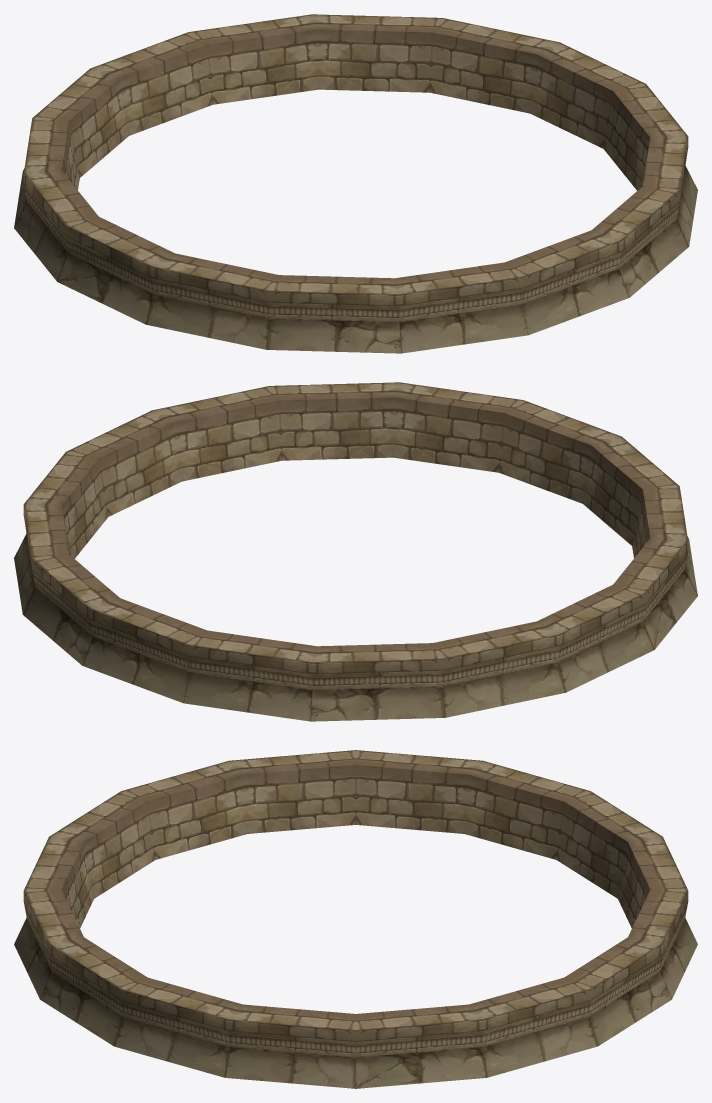
3 renders of one model, top to bottom at view 1: azimuth 30°, elevation 25°; view 2: azimuth 150°, elevation 25°; view 3: azimuth 270°, elevation 25°, orthographic.
Visible parts, largest first — view 1: Tube; view 2: Tube; view 3: Tube.
Boxes of the visible parts, box(x1,y1,x2,y2) form: Tube: box(14, 14, 697, 353); Tube: box(14, 382, 697, 721); Tube: box(14, 750, 697, 1088).
Size of the model in its own units: 5121 by 455 by 5121.
Materials: 1 (1 with a texture image).
